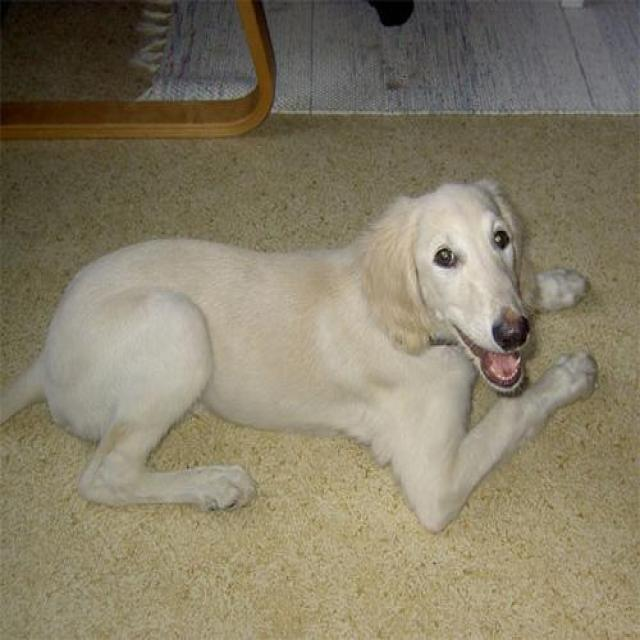saluki: (0, 173, 598, 535)
